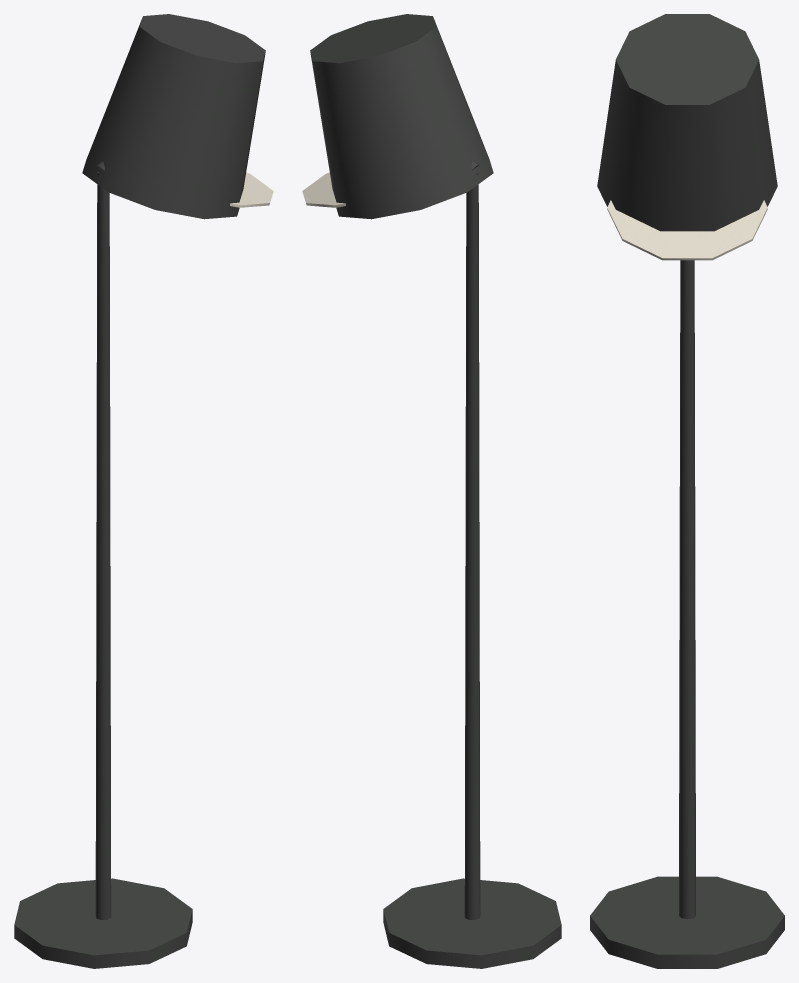
Rendered from hektar-mobile.glb.
3 renders of one model, left to right at view 1: azimuth 30°, elevation 25°; view 2: azimuth 150°, elevation 25°; view 3: azimuth 270°, elevation 25°, orthographic. The views are drawn at different scales.
Visible parts, largest first — view 1: HEKTAR Floor lamp; view 2: HEKTAR Floor lamp; view 3: HEKTAR Floor lamp.
Boxes of the visible parts, bbox=[...] form: HEKTAR Floor lamp: bbox=[14, 14, 273, 968]; HEKTAR Floor lamp: bbox=[302, 14, 561, 968]; HEKTAR Floor lamp: bbox=[590, 14, 784, 968].
Size of the model in its own units: 0.5 by 1.81 by 0.34.
Materials: 2 (2 with a texture image).
